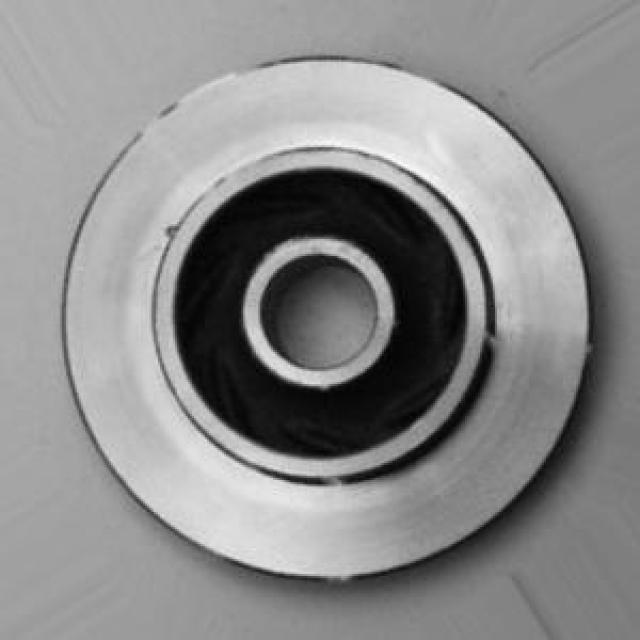Defect: (157, 220, 188, 243)
